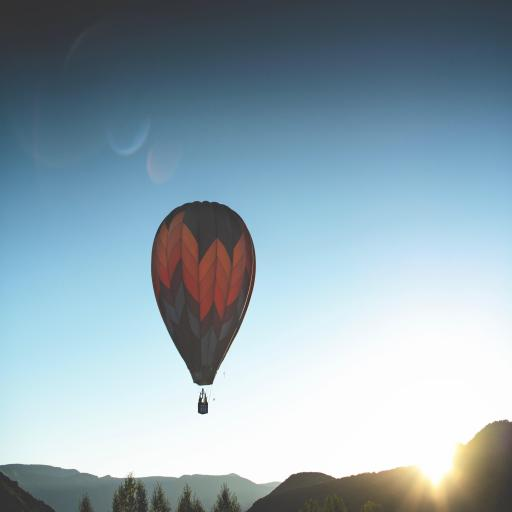hot air ballon: (151, 199, 255, 414)
